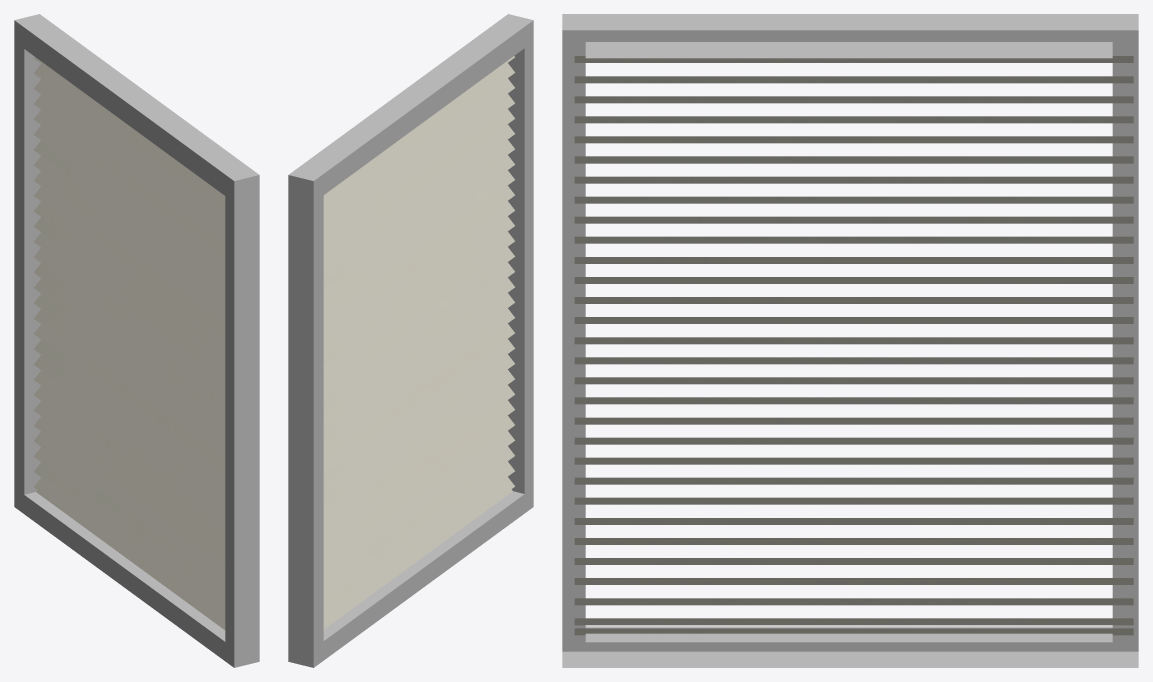
Rendered from Window.FBX.
The picture shows the model from 3 angles, left to right: view 1: azimuth 30°, elevation 25°; view 2: azimuth 150°, elevation 25°; view 3: azimuth 270°, elevation 25°; orthographic projection. The views are drawn at different scales.
Visible parts, largest first — view 1: Blinds_009, Window_Frame_004; view 2: Blinds_009, Window_Frame_004; view 3: Blinds_009, Window_Frame_004.
Part boxes in pixels (x1,y1,x2,y2): Blinds_009: (33,57,225,629); Window_Frame_004: (14,14,259,667); Blinds_009: (323,56,514,629); Window_Frame_004: (288,14,533,667); Blinds_009: (574,56,1133,635); Window_Frame_004: (562,14,1138,667).
Bounding box in the file's own units: 2.91 × 53.19 × 43.55.
